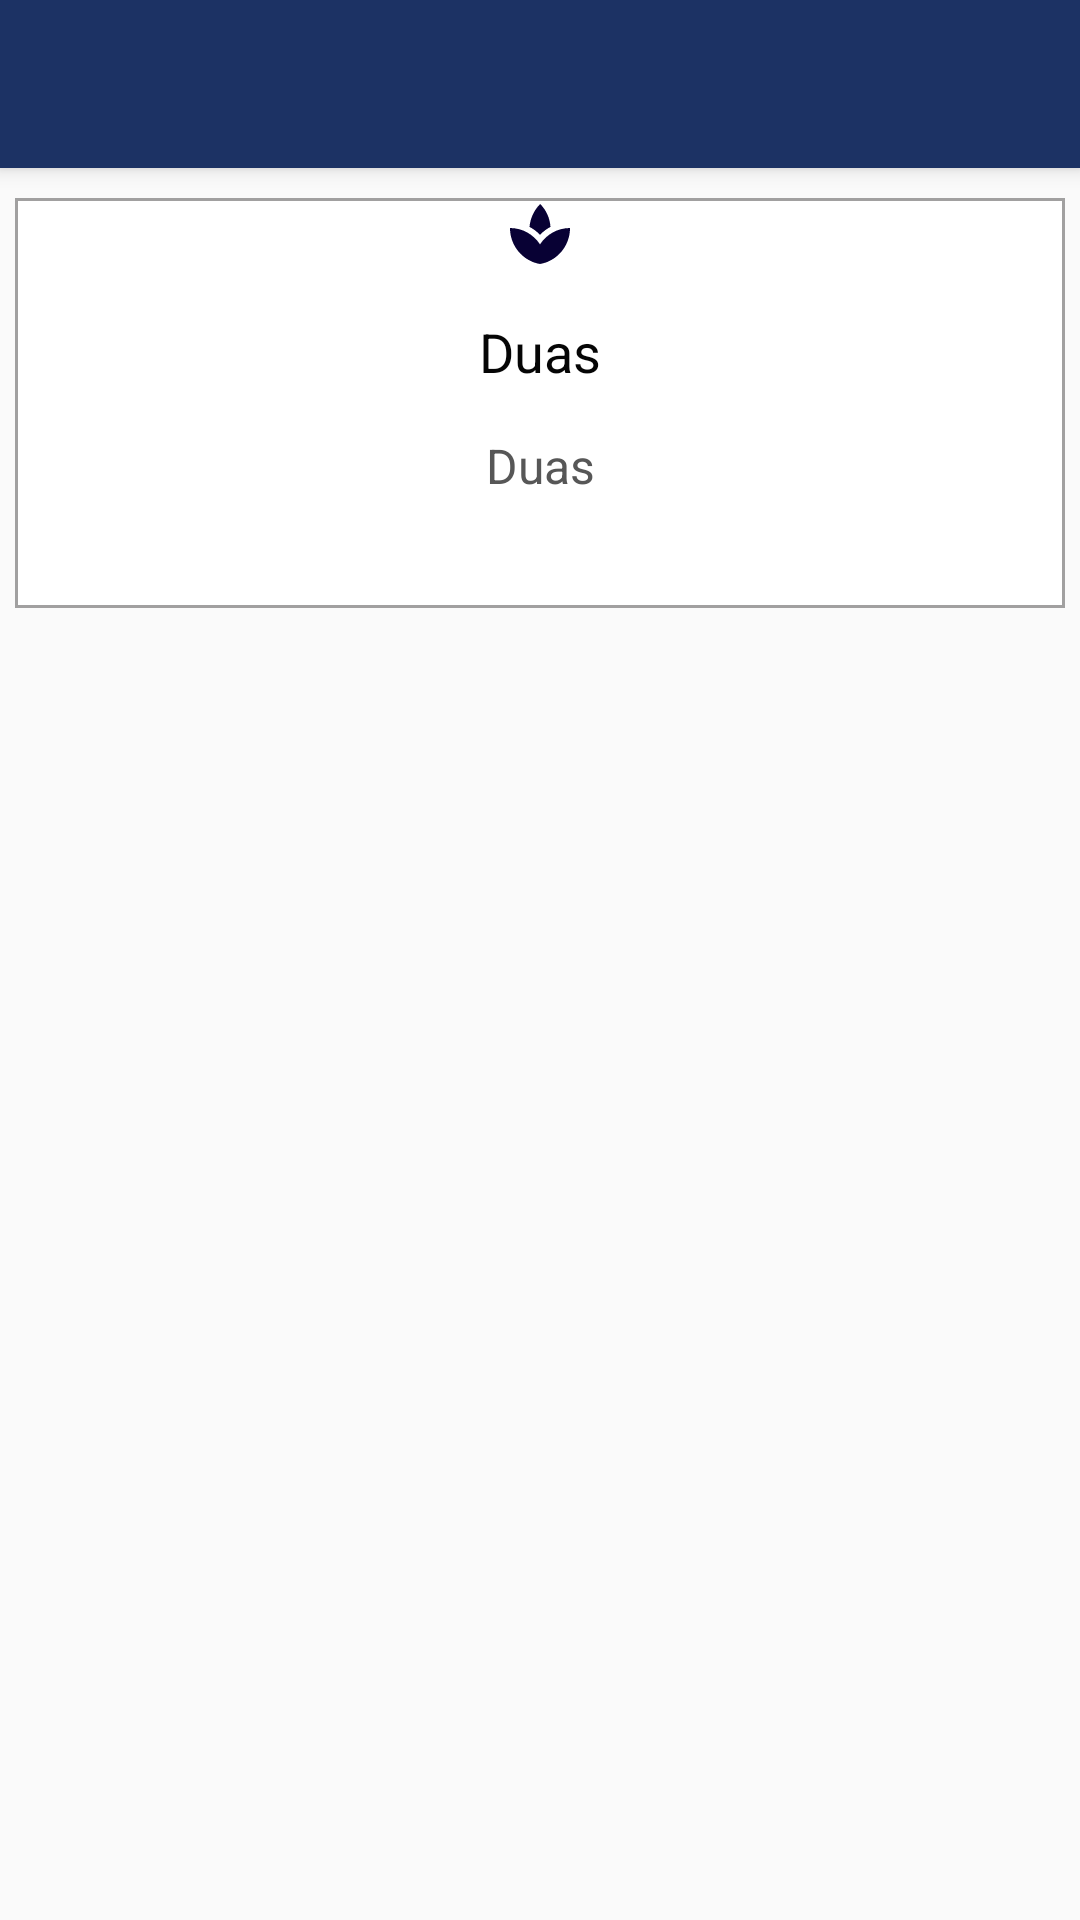

Screen size 1080px x 1920px. Icon name, then its box in pixels as box=[x1, y1, x2, y2]:
spa: box=[510, 204, 570, 264]
